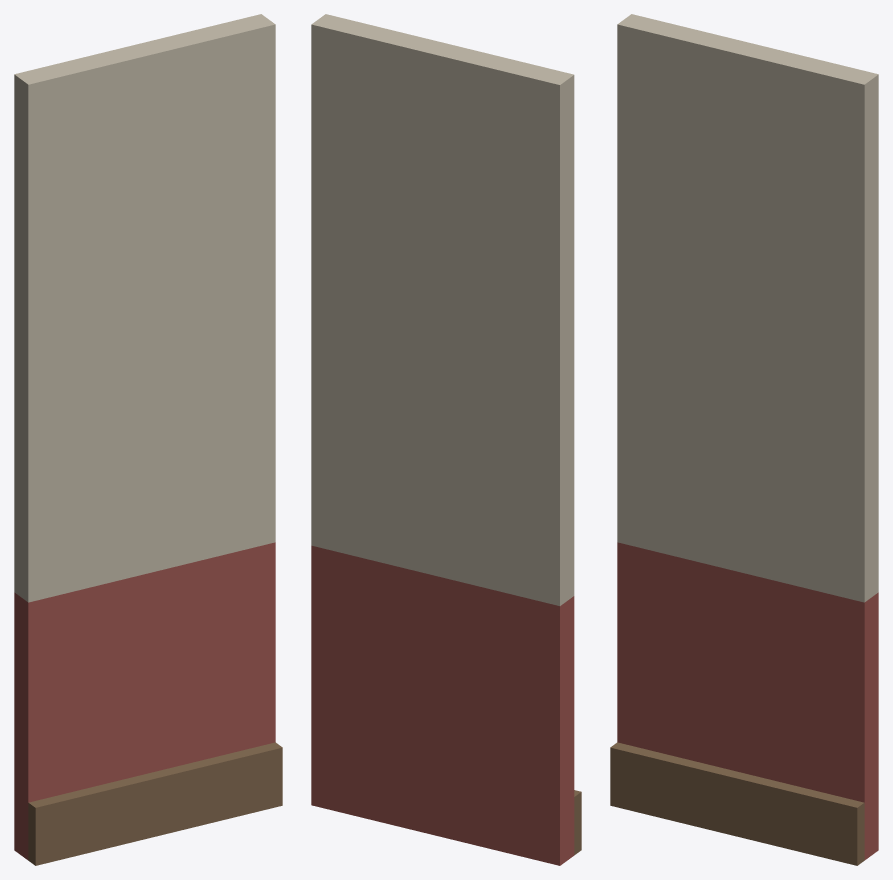
Rendered from Mesh_WallBaseboard2Colors_D1.fbx.
3 renders of one model, left to right at view 1: azimuth 30°, elevation 25°; view 2: azimuth 150°, elevation 25°; view 3: azimuth 330°, elevation 25°, orthographic.
Visible parts, largest first — view 1: Mesh_WallBaseboard2Colors_D1; view 2: Mesh_WallBaseboard2Colors_D1; view 3: Mesh_WallBaseboard2Colors_D1.
Boxes of the visible parts, <box> form: Mesh_WallBaseboard2Colors_D1: <box>14,14,282,865</box>; Mesh_WallBaseboard2Colors_D1: <box>311,14,581,865</box>; Mesh_WallBaseboard2Colors_D1: <box>610,14,878,865</box>.
Bounding box in the file's own units: 1 × 3 × 0.15.
